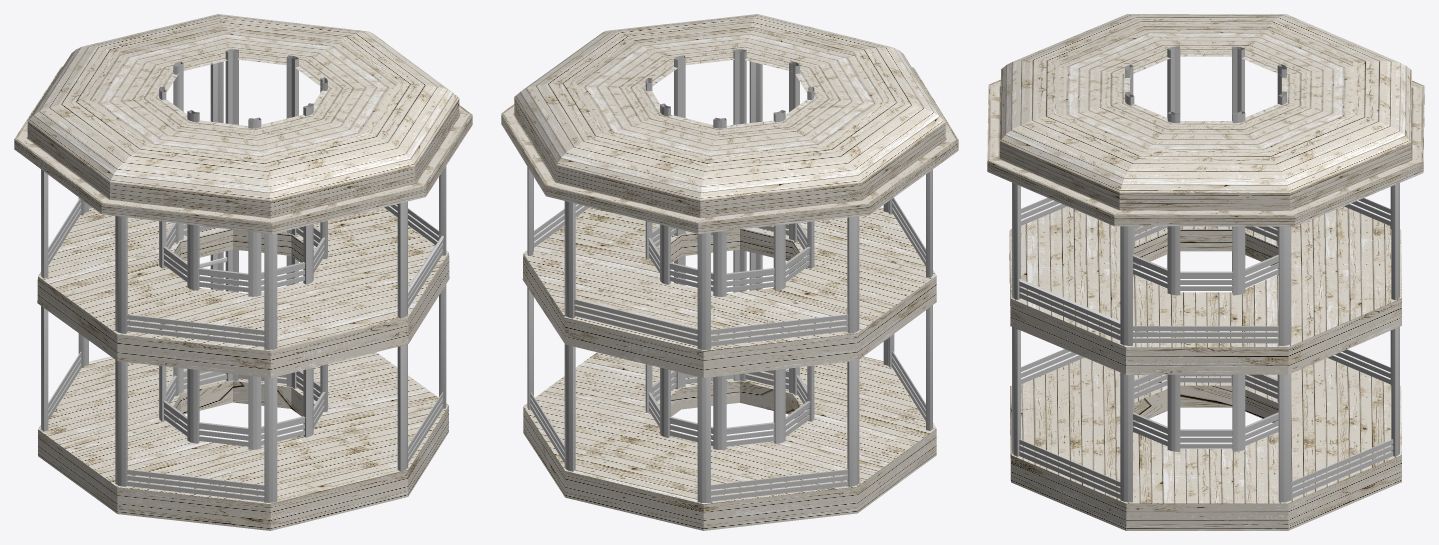
Rendered from Gazebo 6.fbx.
3 renders of one model, left to right at view 1: azimuth 30°, elevation 25°; view 2: azimuth 150°, elevation 25°; view 3: azimuth 270°, elevation 25°, orthographic. The views are drawn at different scales.
Parts seen in each view (by area): view 1: Circle, Circle.002, Circle.003, Cube.002, Cube.018, Cube.026, Cube.019, Cube.036, Cube.027, Cube.008, Cube.009; view 2: Circle, Circle.002, Circle.003, Cube.002, Cube.018, Cube.026, Cube.019, Cube.027, Cube.036, Cube.008, Cube.009; view 3: Circle, Circle.002, Circle.003, Cube.002, Cube.018, Cube.019, Cube.026, Cube.027, Cube.036, Cube.008, Cube.009.
Part boxes in pixels (left/top/right/bottom): Circle: left=14, top=14, right=472, bottom=233; Circle.002: left=38, top=352, right=448, bottom=530; Circle.003: left=37, top=207, right=449, bottom=378; Cube.002: left=159, top=49, right=327, bottom=449; Cube.018: left=41, top=252, right=446, bottom=502; Cube.026: left=41, top=61, right=446, bottom=349; Cube.019: left=48, top=352, right=443, bottom=501; Cube.036: left=48, top=198, right=443, bottom=346; Cube.027: left=163, top=370, right=325, bottom=446; Cube.008: left=163, top=222, right=325, bottom=292; Cube.009: left=89, top=204, right=438, bottom=244; Circle: left=501, top=14, right=958, bottom=233; Circle.002: left=523, top=352, right=936, bottom=530; Circle.003: left=522, top=207, right=936, bottom=377; Cube.002: left=645, top=49, right=814, bottom=449; Cube.018: left=527, top=252, right=932, bottom=502; Cube.026: left=527, top=61, right=932, bottom=349; Cube.019: left=530, top=351, right=925, bottom=501; Cube.027: left=648, top=370, right=810, bottom=446; Cube.036: left=711, top=197, right=925, bottom=346; Cube.008: left=648, top=223, right=810, bottom=292; Cube.009: left=534, top=204, right=697, bottom=345; Circle: left=987, top=14, right=1424, bottom=226; Circle.002: left=1010, top=357, right=1401, bottom=530; Circle.003: left=1009, top=206, right=1401, bottom=374; Cube.002: left=1125, top=46, right=1286, bottom=451; Cube.018: left=1012, top=327, right=1399, bottom=502; Cube.019: left=1019, top=349, right=1393, bottom=498; Cube.026: left=1012, top=182, right=1399, bottom=345; Cube.027: left=1133, top=374, right=1278, bottom=448; Cube.036: left=1019, top=197, right=1390, bottom=340; Cube.008: left=1133, top=226, right=1278, bottom=290; Cube.009: left=1133, top=326, right=1278, bottom=343.
Size of the model in its own units: 1153 by 1068 by 1153.
